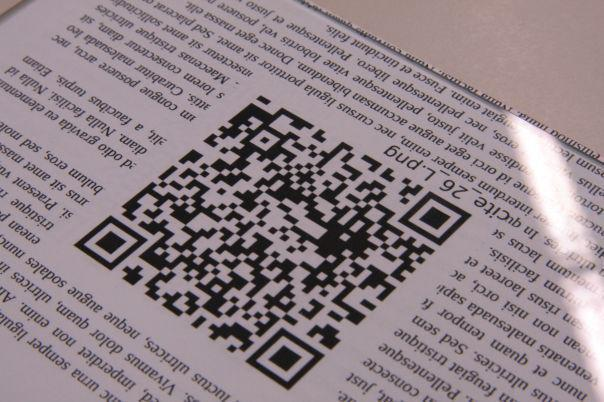qr_code: (73, 93, 471, 390)
